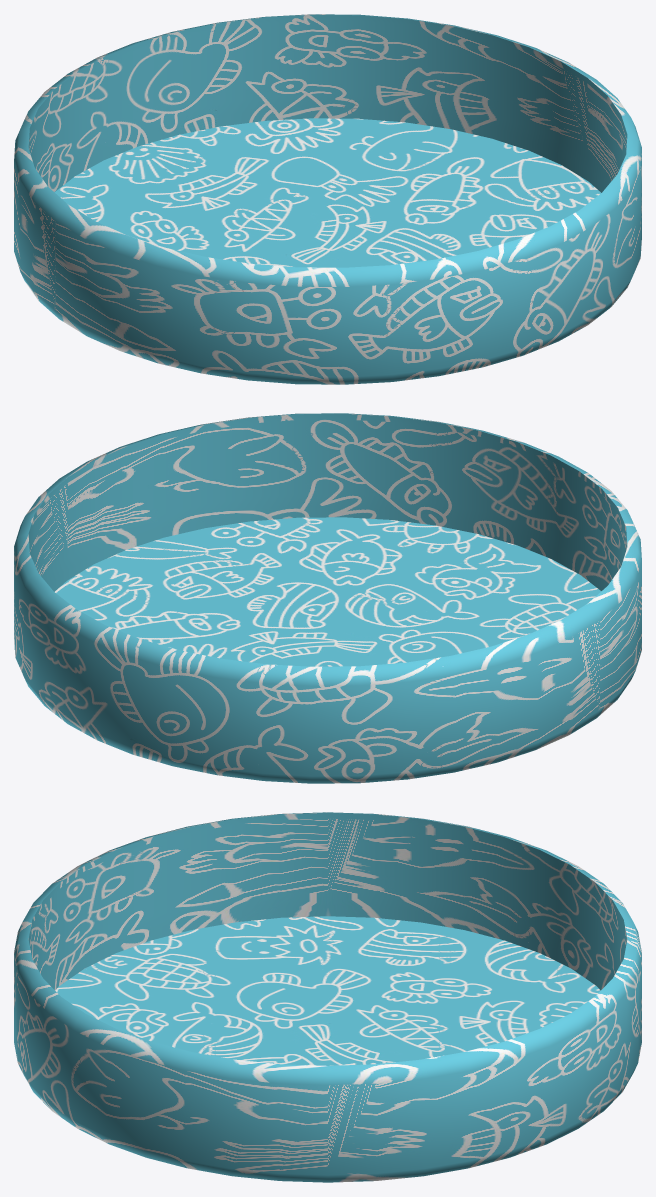
The model's file is Kiddie_pool.FBX.
The picture shows the model from 3 angles, top to bottom: view 1: azimuth 30°, elevation 25°; view 2: azimuth 150°, elevation 25°; view 3: azimuth 270°, elevation 25°; orthographic projection.
Parts seen in each view (by area): view 1: Outside, Inside, Inside_Bottom; view 2: Outside, Inside, Inside_Bottom; view 3: Outside, Inside, Inside_Bottom.
Part boxes in pixels (<box>): Outside: <box>14,14,641,384</box>; Inside: <box>28,14,627,192</box>; Inside_Bottom: <box>54,118,600,267</box>; Outside: <box>14,413,641,783</box>; Inside: <box>28,413,627,591</box>; Inside_Bottom: <box>55,517,601,666</box>; Outside: <box>14,812,641,1182</box>; Inside: <box>28,812,627,990</box>; Inside_Bottom: <box>55,916,600,1065</box>.
Bounding box in the file's own units: 140 × 28.61 × 140.
1 material, 1 textured.
